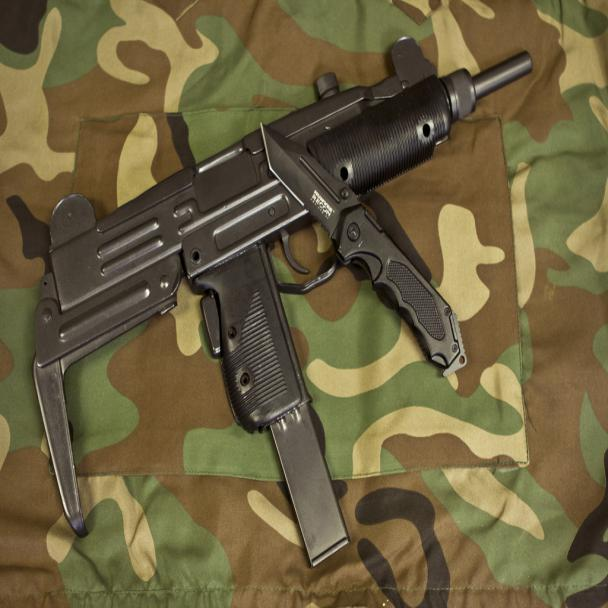Gun: (1, 38, 552, 596)
